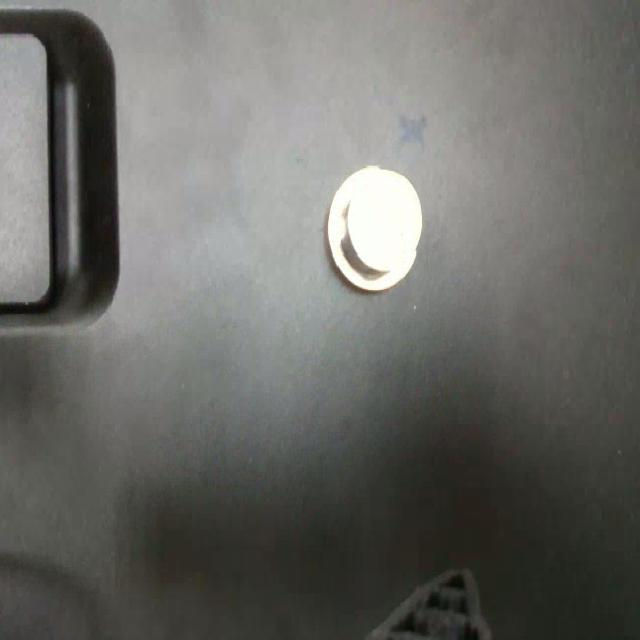sensor: (326, 163, 424, 291)
